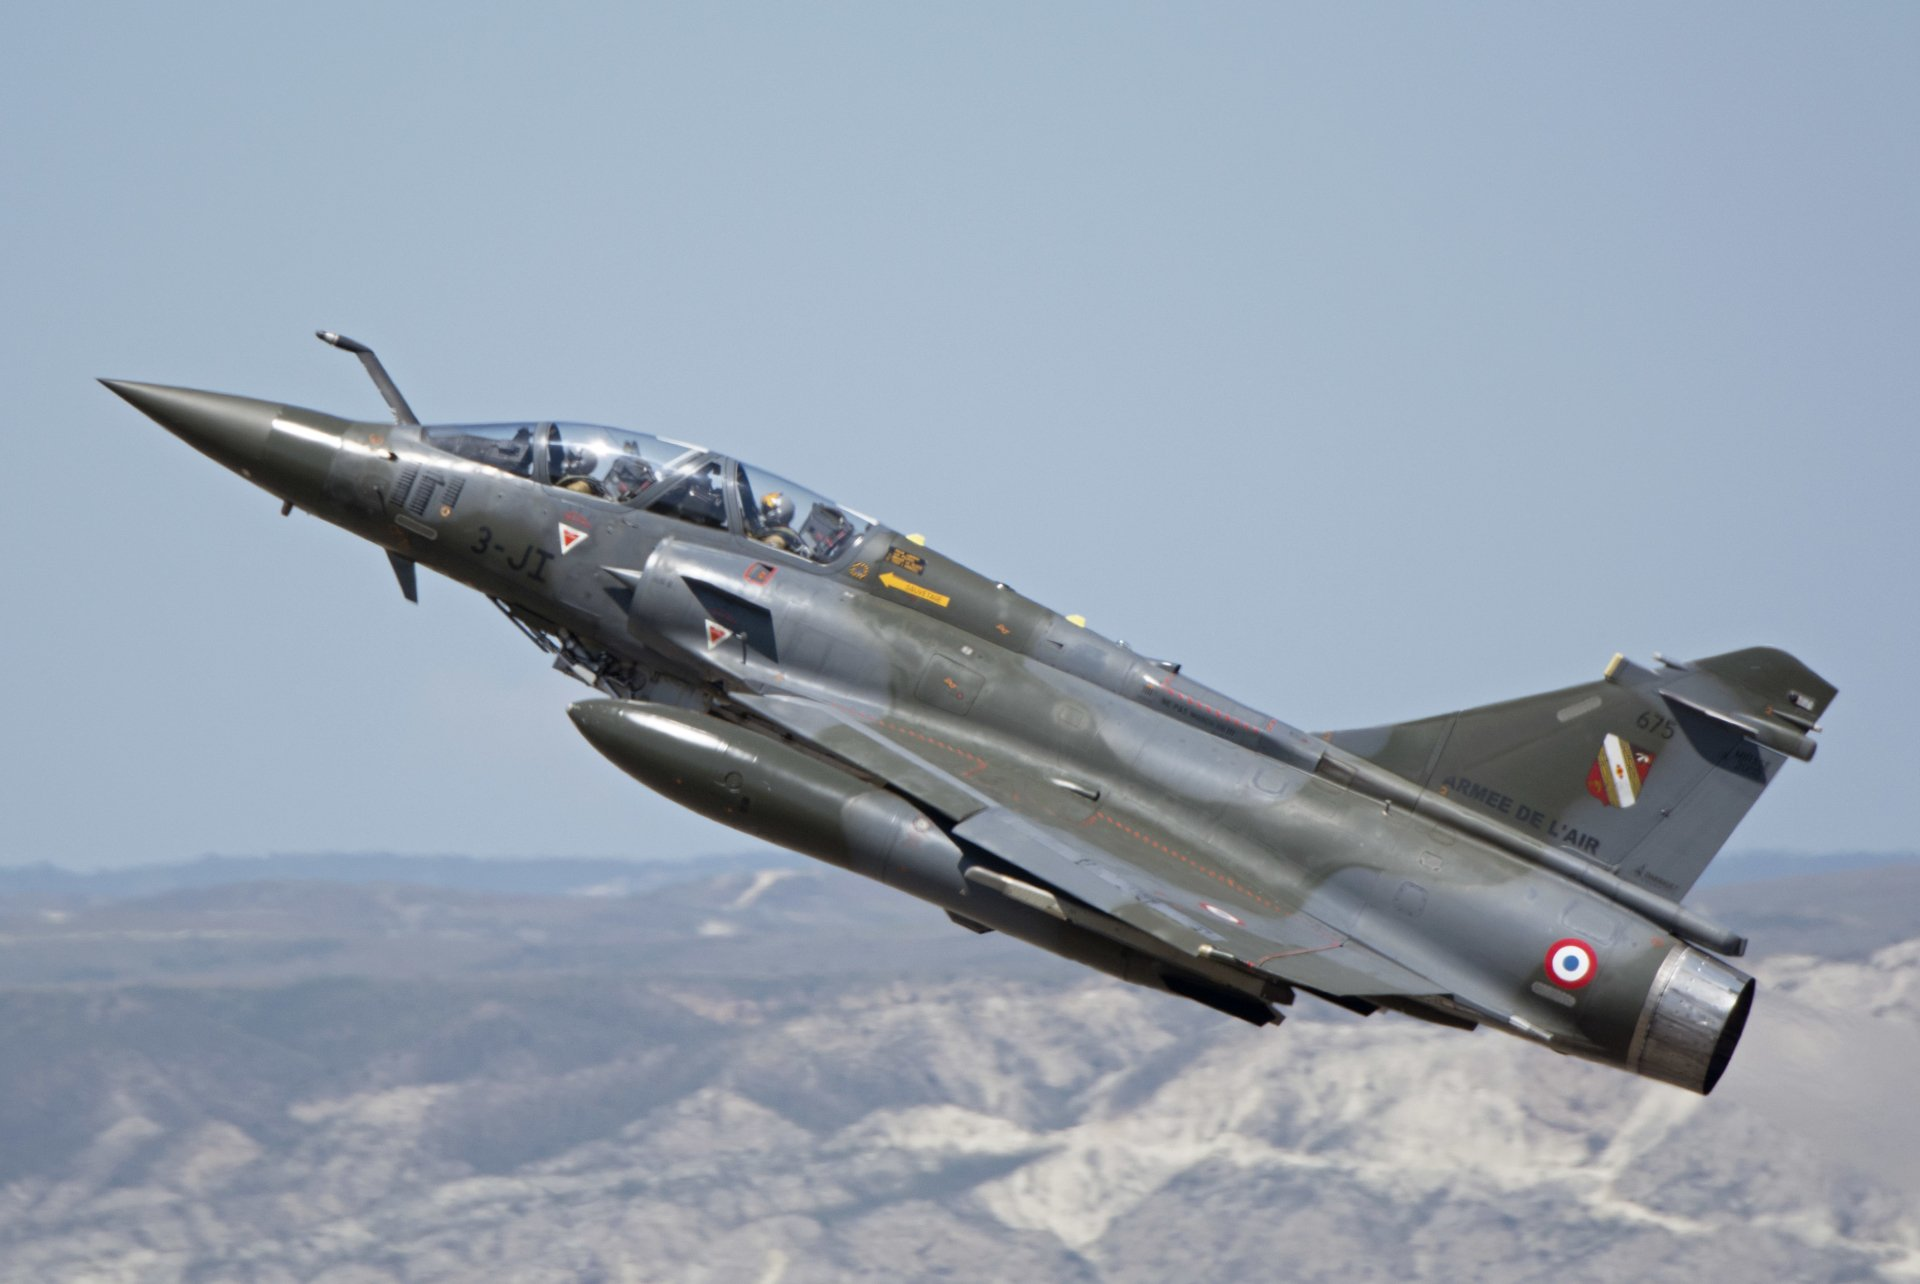Aeronef_militaire: (67, 308, 1878, 1111)
